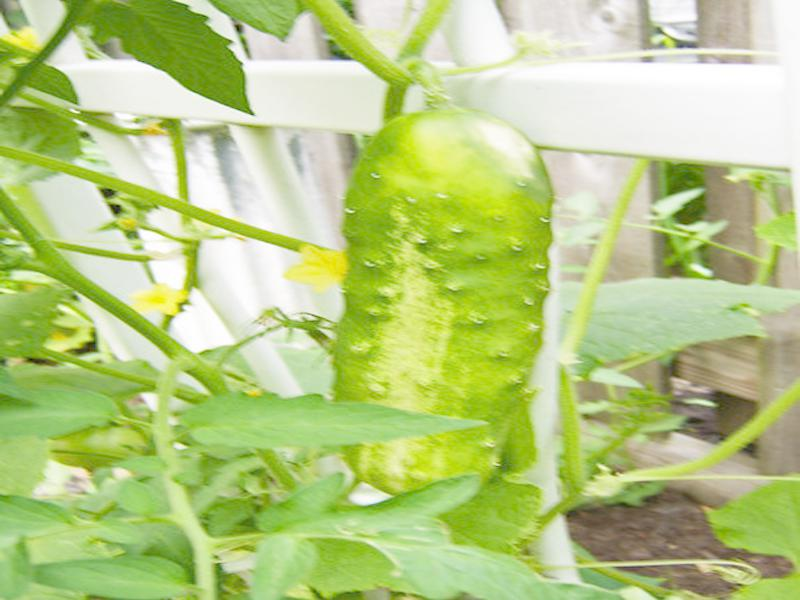Cucumber: (342, 107, 550, 491)
